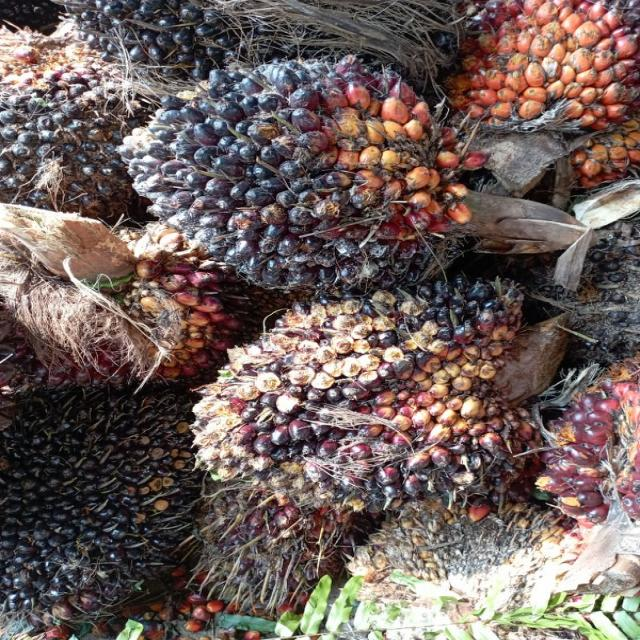fraksi 00: (108, 55, 454, 270), (195, 284, 504, 510), (0, 392, 193, 628)
fraksi 1: (437, 0, 640, 180)
